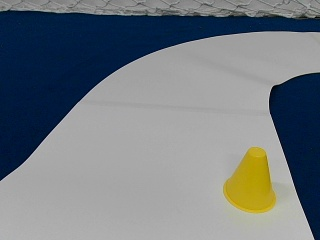cone: (224, 148, 277, 212)
